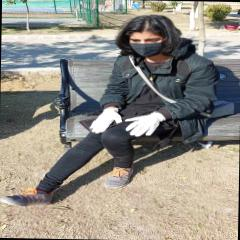gloved: (124, 112, 164, 138), (91, 107, 122, 135)
